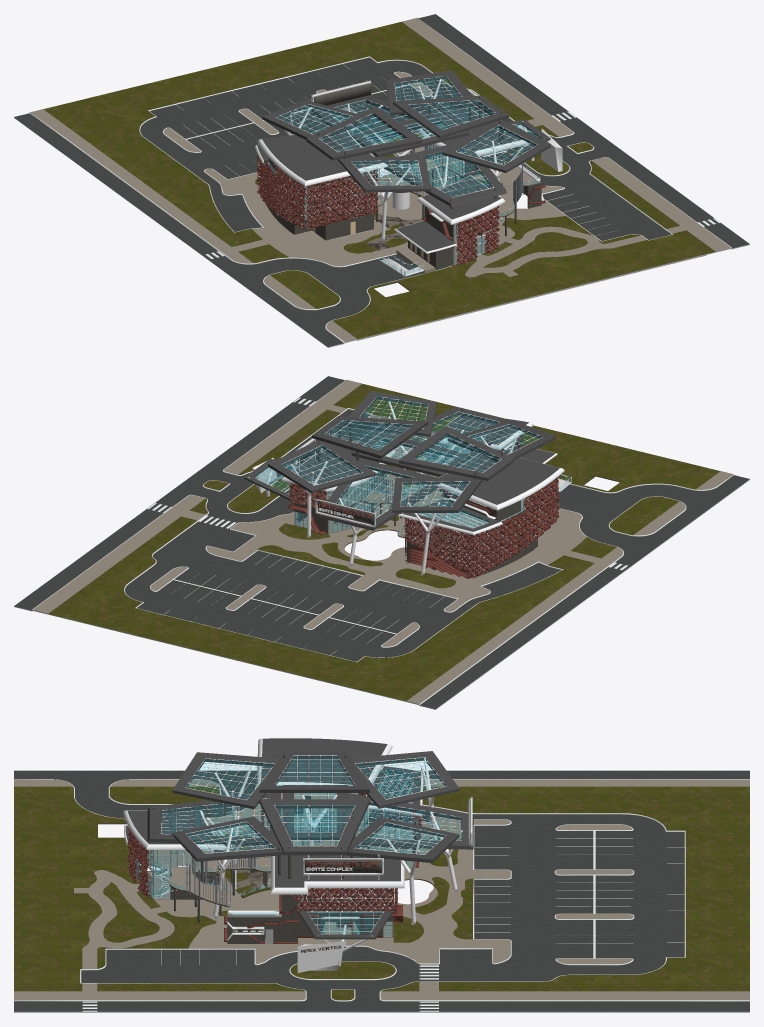
Rendered from student-work-05.glb.
The picture shows the model from 3 angles, top to bottom: view 1: azimuth 30°, elevation 25°; view 2: azimuth 150°, elevation 25°; view 3: azimuth 270°, elevation 25°; orthographic projection. The views are drawn at different scales.
Visible parts, largest first — view 1: STUDIO_4_AKMAL; view 2: STUDIO_4_AKMAL; view 3: STUDIO_4_AKMAL.
Part boxes in pixels (<box>): STUDIO_4_AKMAL: <box>14,14,749,347</box>; STUDIO_4_AKMAL: <box>14,376,749,709</box>; STUDIO_4_AKMAL: <box>14,738,749,1012</box>.
Size of the model in its own units: 75.95 by 16.38 by 97.99.
Materials: 24 (7 with a texture image).
